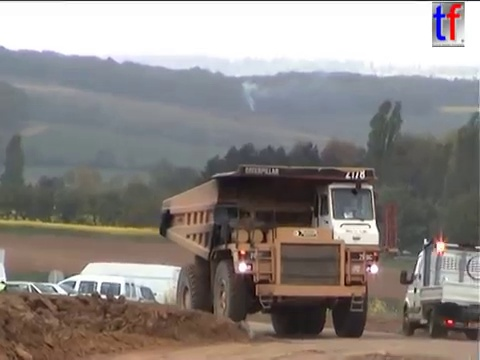truck: (156, 160, 400, 341), (399, 235, 480, 342)
worker: (1, 278, 8, 313)
